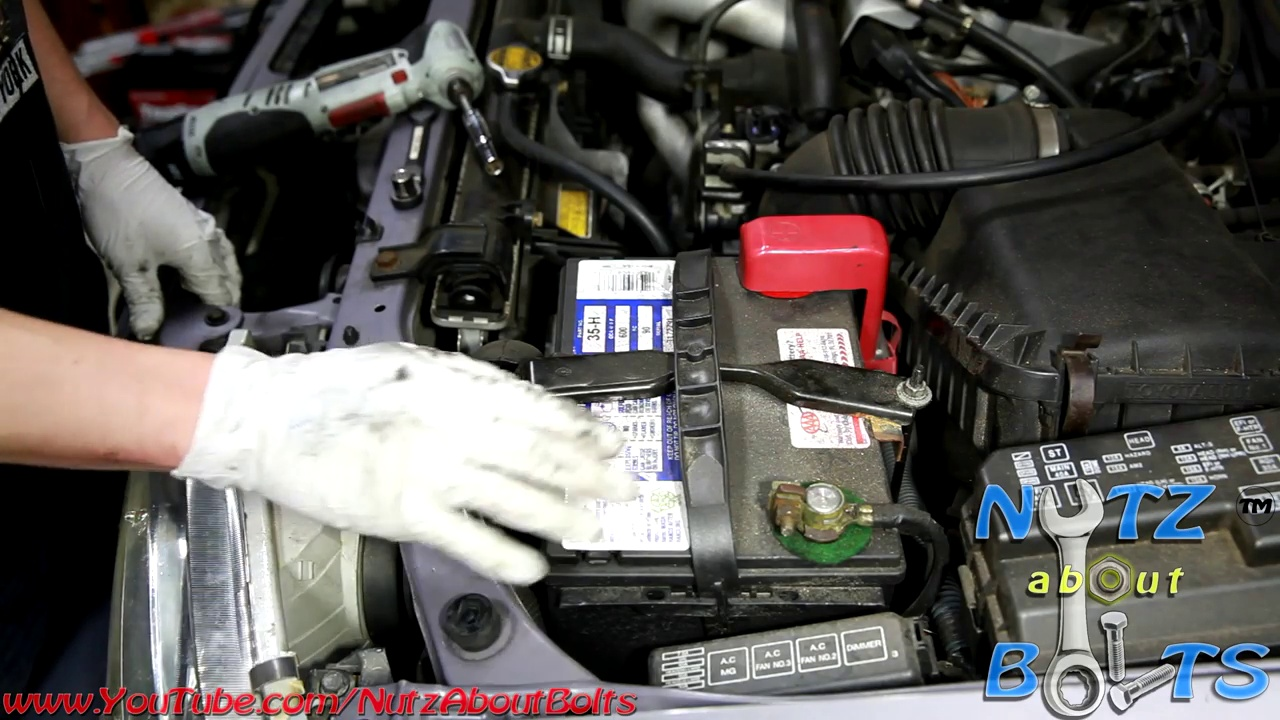battery: (558, 219, 938, 595)
neg_connected: (756, 467, 917, 578)
pos_connected: (698, 190, 904, 354)
